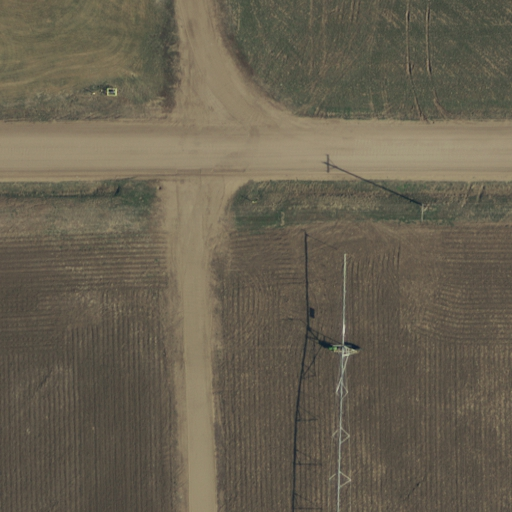DT: (413, 196, 439, 225)
